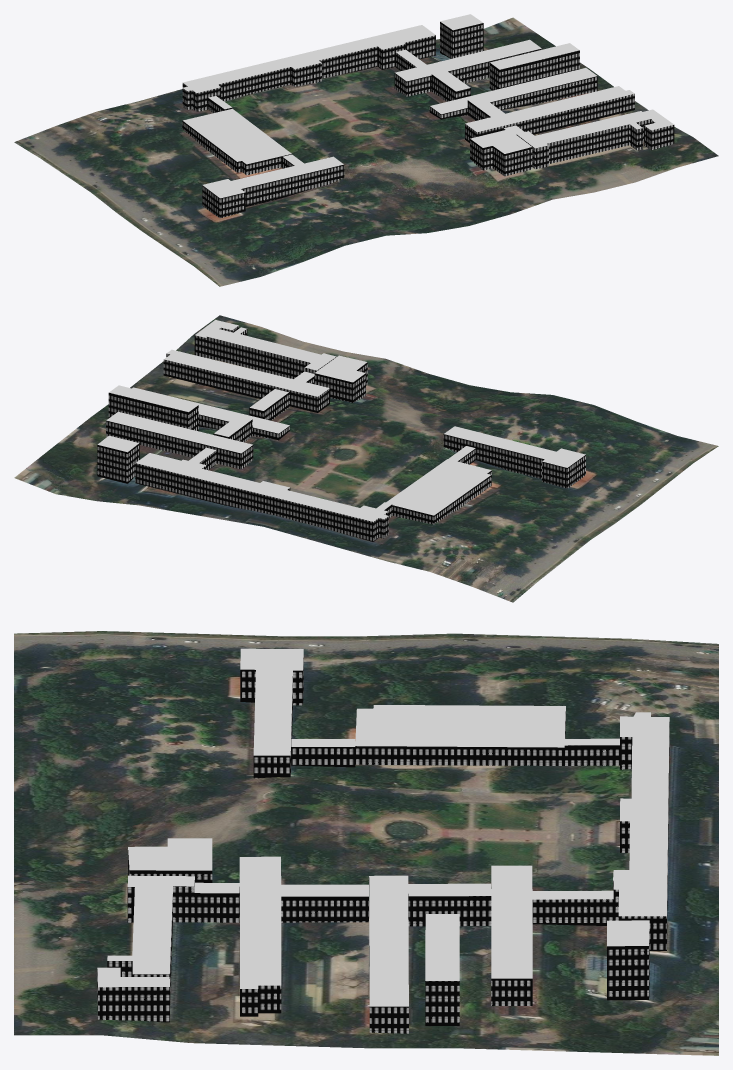
File: osm-C2.fbx
The picture shows the model from 3 angles, top to bottom: view 1: azimuth 30°, elevation 25°; view 2: azimuth 150°, elevation 25°; view 3: azimuth 270°, elevation 25°; orthographic projection. The views are drawn at different scales.
Visible parts, largest first — view 1: Terrain, map.osm_buildings, map.osm_buildings.001; view 2: Terrain, map.osm_buildings, map.osm_buildings.001; view 3: Terrain, map.osm_buildings.001, map.osm_buildings.
Part boxes in pixels (left/top/right/bottom): Terrain: left=14, top=17, right=718, bottom=286; map.osm_buildings: left=182, top=22, right=674, bottom=218; map.osm_buildings.001: left=183, top=14, right=673, bottom=198; Terrain: left=14, top=315, right=718, bottom=602; map.osm_buildings: left=97, top=325, right=585, bottom=541; map.osm_buildings.001: left=97, top=320, right=585, bottom=521; Terrain: left=14, top=631, right=718, bottom=1055; map.osm_buildings.001: left=97, top=648, right=669, bottom=1006; map.osm_buildings: left=97, top=658, right=669, bottom=1033.
Bounding box in the file's own units: 34641 × 2689 × 24738.
